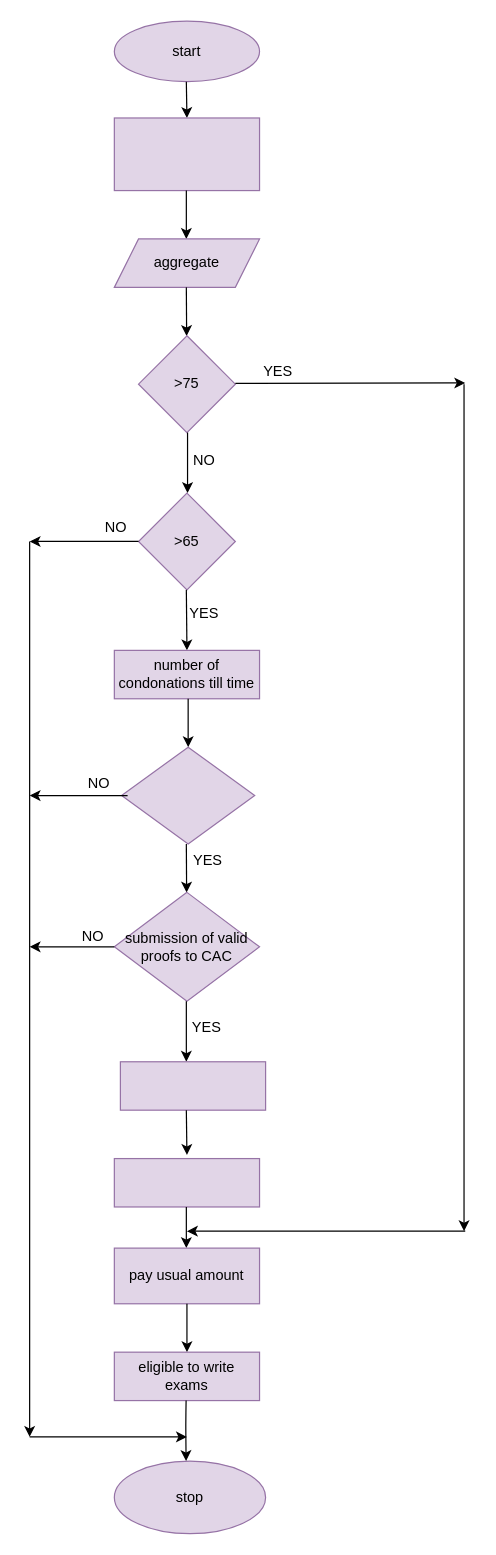
Image size: 496x1555. Some labels were removed from this diagram. Here are the shapes that lost their labels. From the top down, the centre of each, then its label:
At pixel 186 154: "number of classes conducted and number of classes attended".
At pixel 187 795: "condonations>2".
At pixel 192 1085: "student will be condoned".
At pixel 186 1182: "pay fine".
